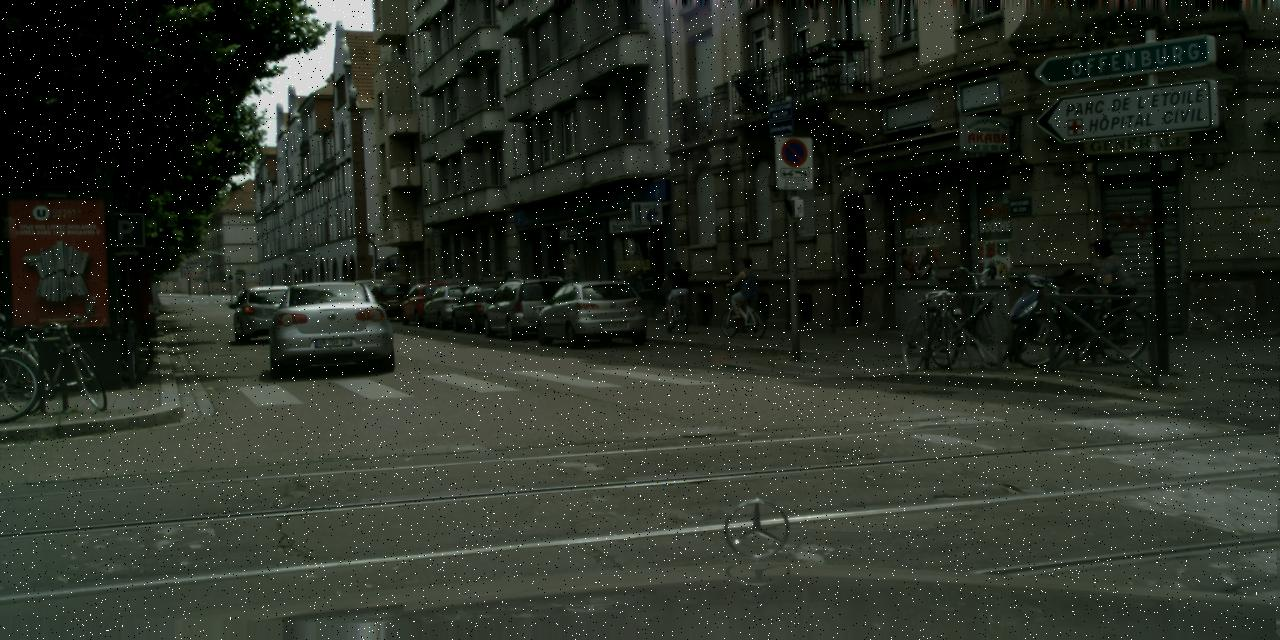ped: (1088, 240, 1132, 348), (732, 258, 759, 324), (665, 260, 691, 324), (540, 265, 556, 307)
